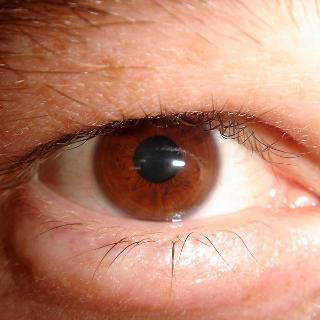pupil: (134, 135, 182, 183)
